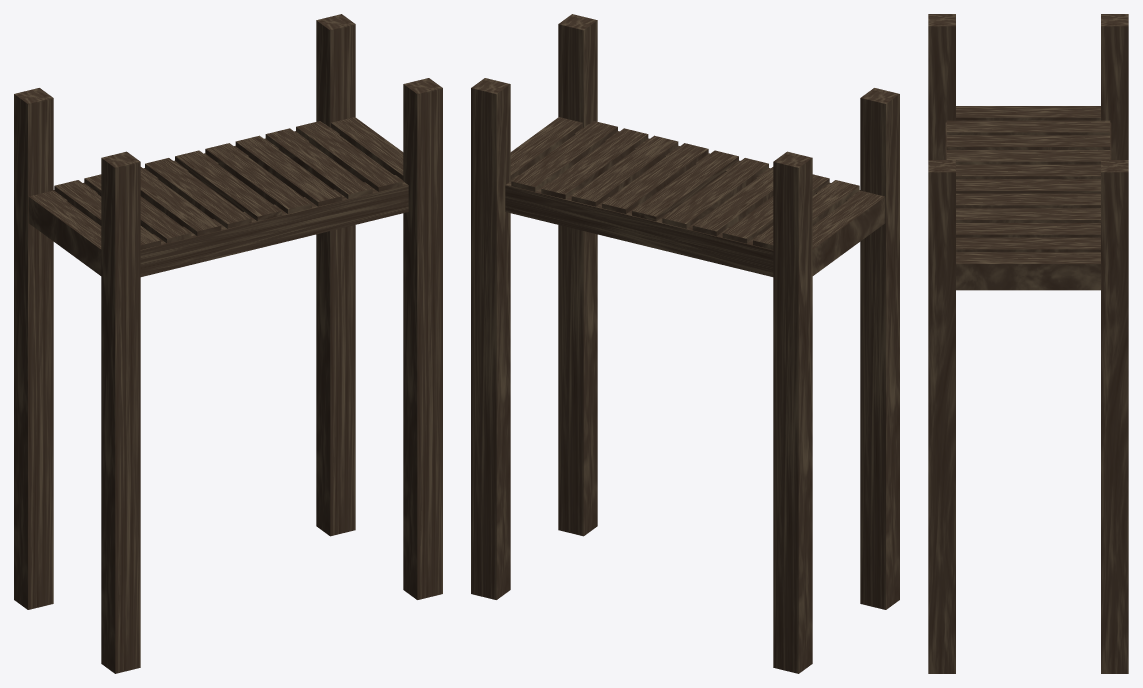
File: Wodden Bridge.fbx
3 renders of one model, left to right at view 1: azimuth 30°, elevation 25°; view 2: azimuth 150°, elevation 25°; view 3: azimuth 270°, elevation 25°, orthographic.
Parts seen in each view (by area): view 1: Cube.002; view 2: Cube.002; view 3: Cube.002.
Boxes of the visible parts, left/top/right/bottom form: Cube.002: left=14, top=14, right=442, bottom=673; Cube.002: left=471, top=14, right=899, bottom=673; Cube.002: left=928, top=14, right=1128, bottom=673.
Size of the model in its own units: 217 by 320 by 116.
